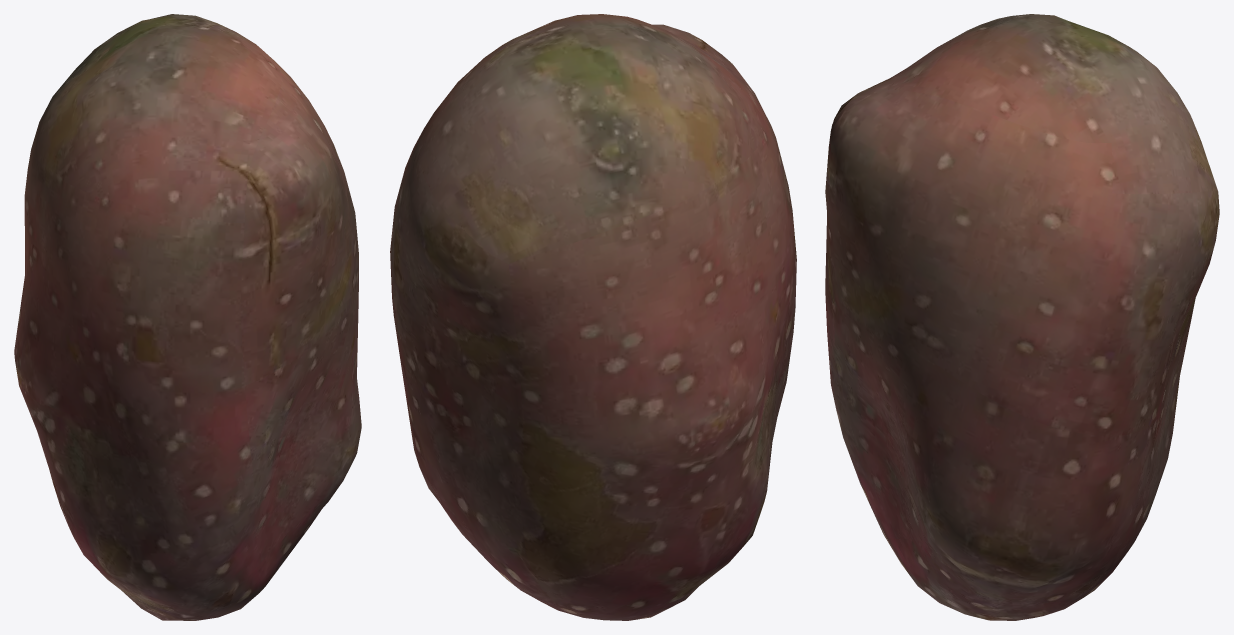
File: sweet_potato.glb
The picture shows the model from 3 angles, left to right: view 1: azimuth 30°, elevation 25°; view 2: azimuth 150°, elevation 25°; view 3: azimuth 270°, elevation 25°; orthographic projection. The views are drawn at different scales.
Visible parts, largest first — view 1: sweet_potato; view 2: sweet_potato; view 3: sweet_potato.
Boxes of the visible parts, x1=… form: sweet_potato: x1=14, y1=14, x2=361, y2=620; sweet_potato: x1=390, y1=14, x2=796, y2=620; sweet_potato: x1=825, y1=14, x2=1219, y2=620.
Bounding box in the file's own units: 0.0581 × 0.1005 × 0.061.
Materials: 1 (1 with a texture image).
